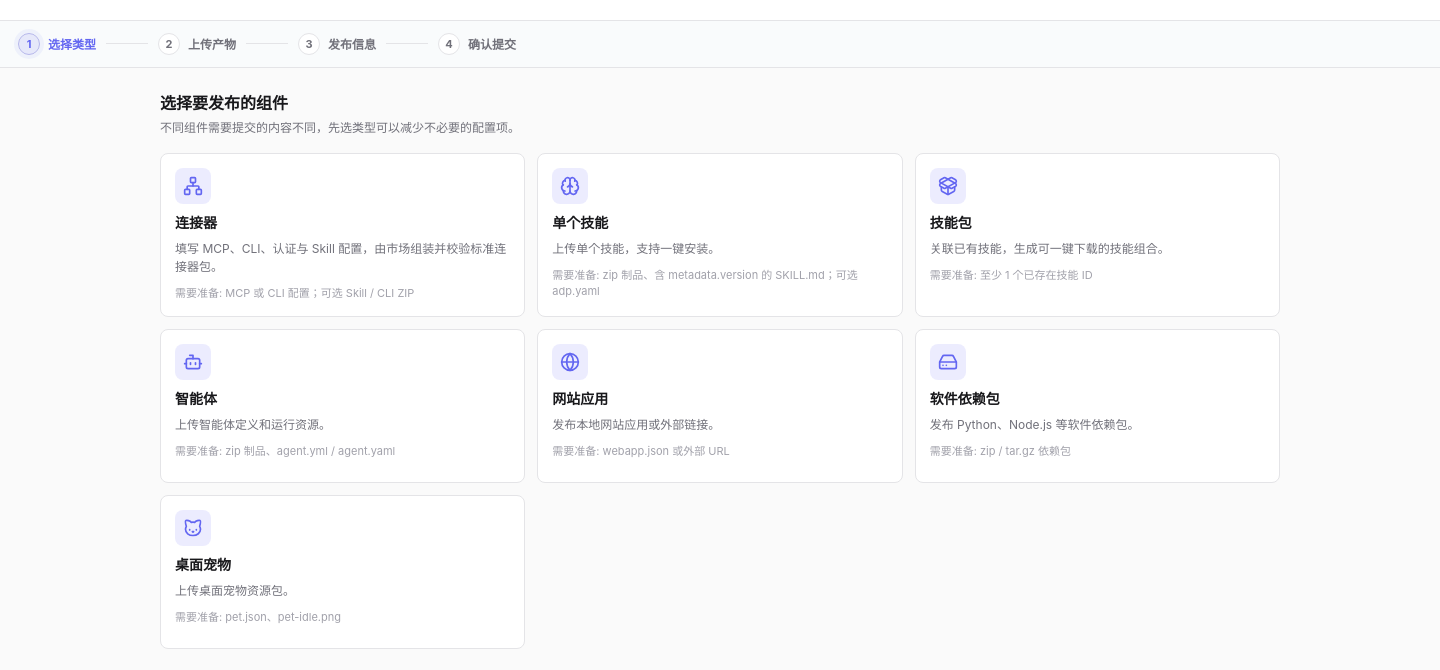
connector-only publishing › collects separate OS and architecture targets for connector artifacts
Step 1. Click the text "连接器" → (196, 223), box [175, 214, 217, 231]
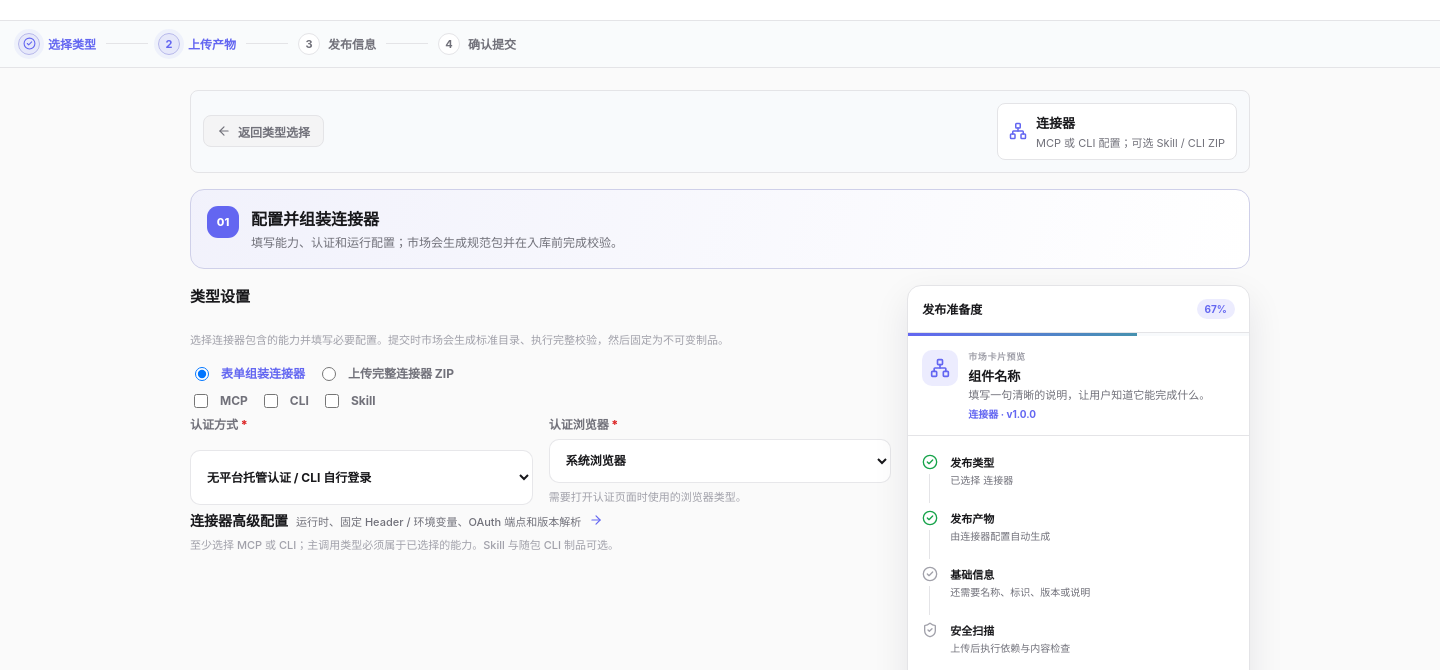
Step 2. Click the checkbox named "connectorHasCLI" → (271, 401), box [264, 394, 278, 408]
(page scrolled)
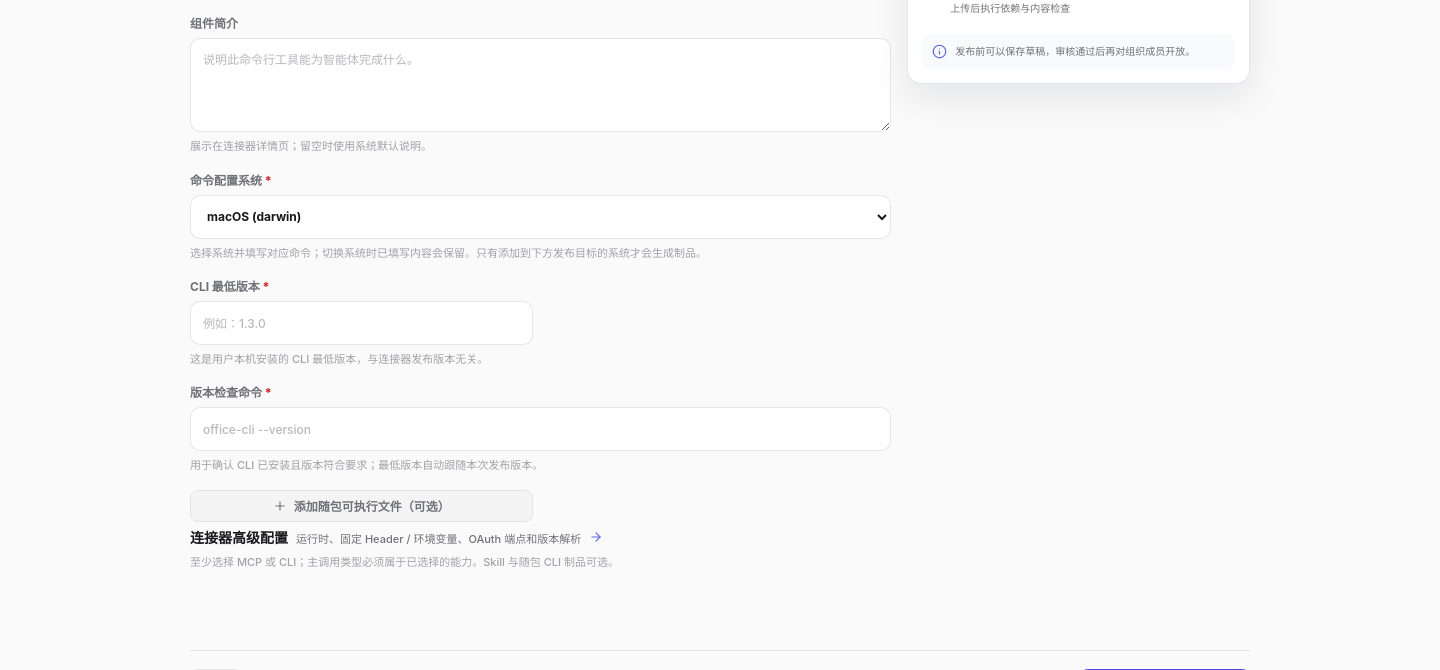
Step 3. Click the button "添加随包可执行文件（可选）" → (361, 506), box [190, 490, 533, 522]
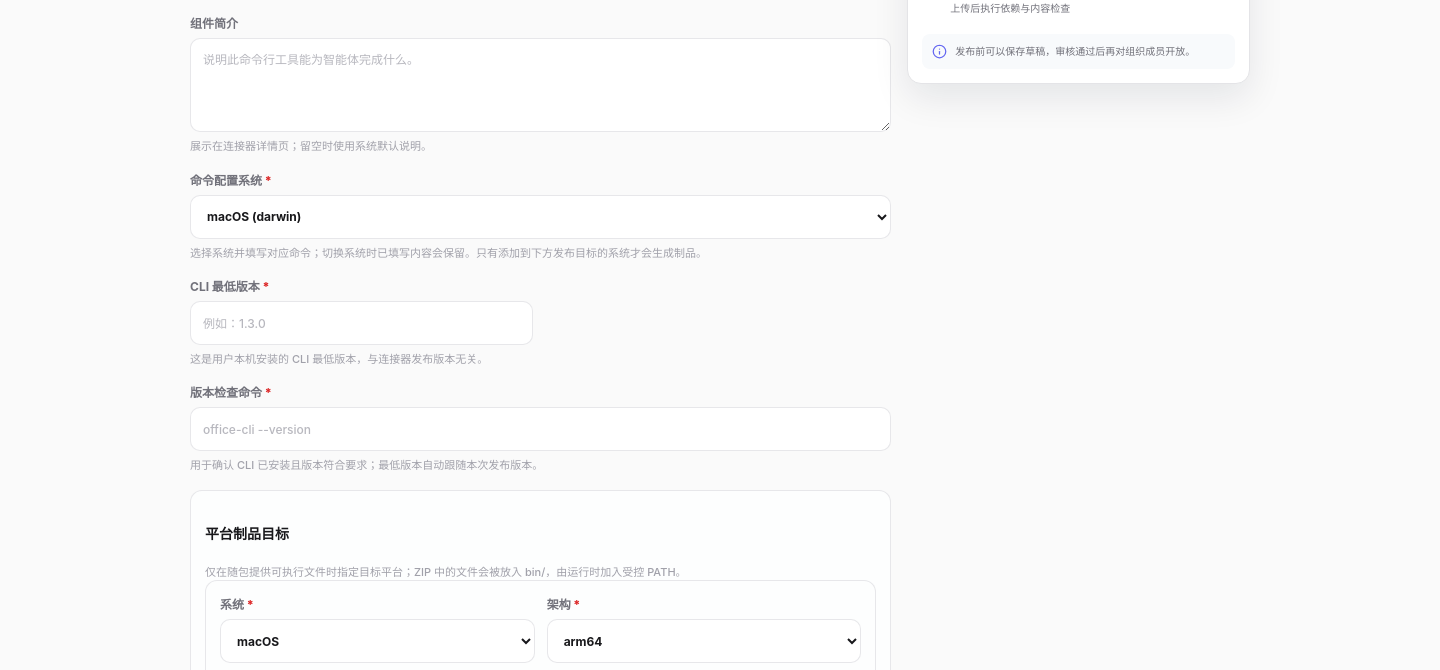
Expected: the dropdown named "connectorTargetOS.0" shows "macOS", [220, 620, 535, 664]
Expected: the dropdown named "connectorTargetArch.0" shows "arm64", [547, 620, 861, 664]
Step 4. Select "Linux" in the dropdown named "cliTargetSystem" → (541, 217), box [190, 195, 891, 239]
(page scrolled)
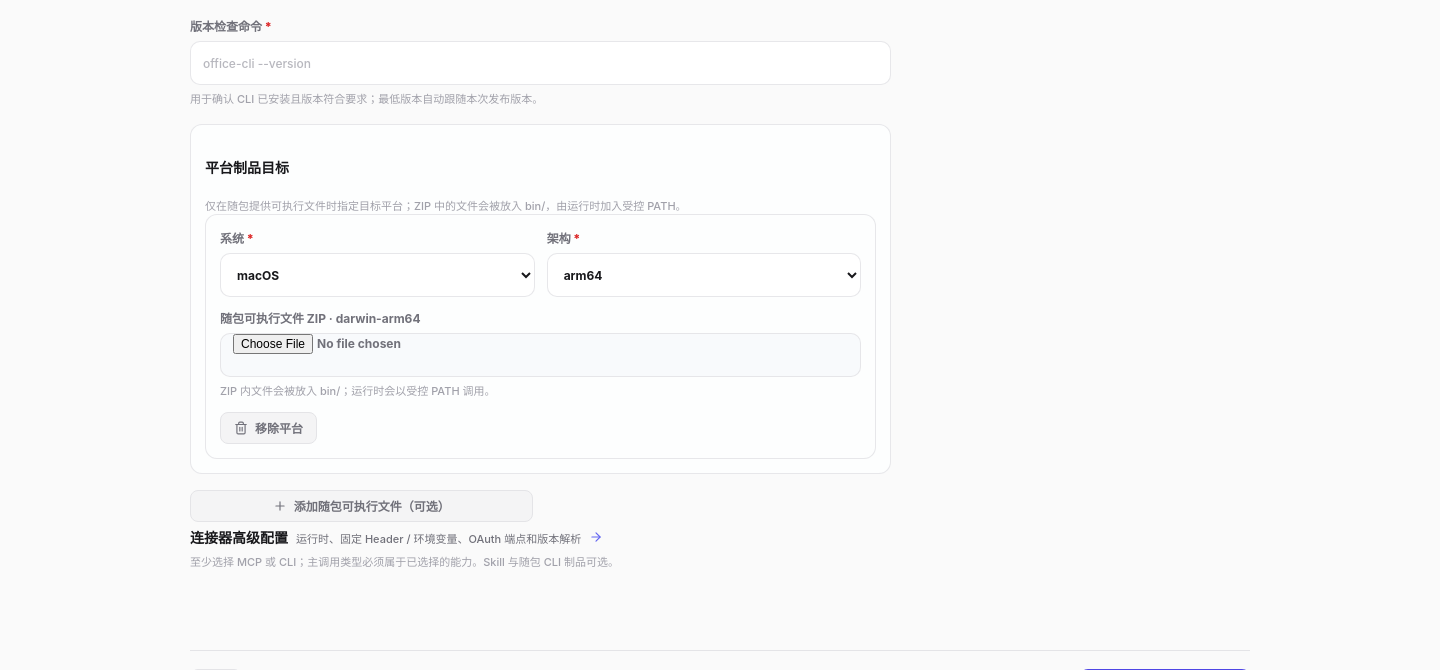
Step 5. Click the button "添加随包可执行文件（可选）" → (361, 506), box [190, 490, 533, 522]
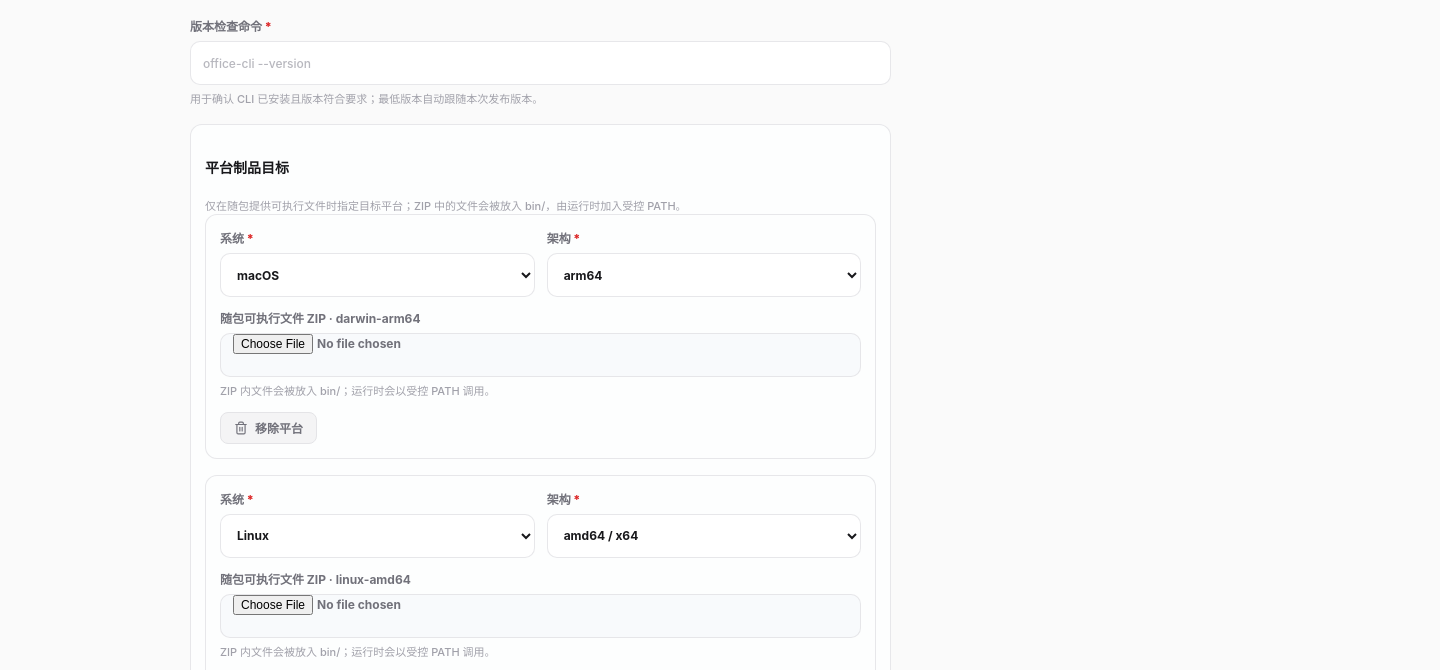
Expected: the dropdown named "connectorTargetOS.1" shows "Linux", [220, 514, 535, 558]
Expected: the dropdown named "connectorTargetArch.1" shows "amd64 / x64", [547, 514, 861, 558]
Expected: the file field named "connectorCLIArchive.linux-amd64" is shown, [220, 594, 861, 638]
